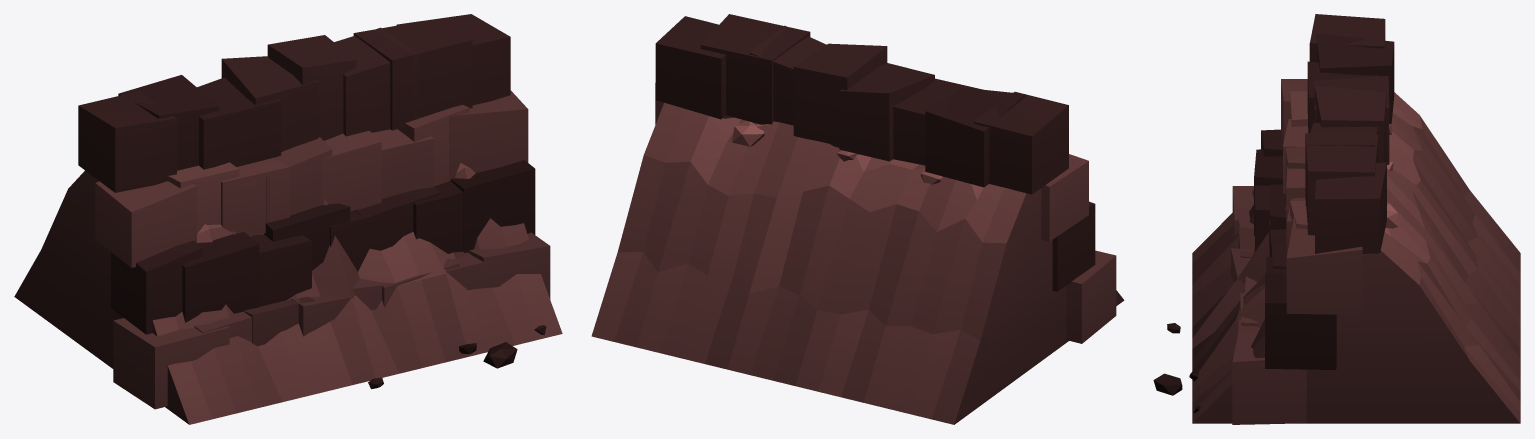
File: cliff-fulgora-sides.glb
3 renders of one model, left to right at view 1: azimuth 30°, elevation 25°; view 2: azimuth 150°, elevation 25°; view 3: azimuth 270°, elevation 25°, orthographic. The views are drawn at different scales.
Parts seen in each view (by area): view 1: cliff-fulgora-sides; view 2: cliff-fulgora-sides; view 3: cliff-fulgora-sides.
Boxes of the visible parts, x1,y1,x2,y2 form: cliff-fulgora-sides: (14, 14, 562, 424); cliff-fulgora-sides: (591, 14, 1124, 424); cliff-fulgora-sides: (1153, 14, 1520, 424).
Bounding box in the file's own units: 4.37 × 2.72 × 3.64.
